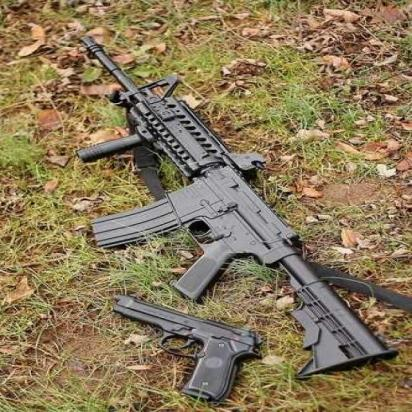Gun: (85, 43, 387, 363)
